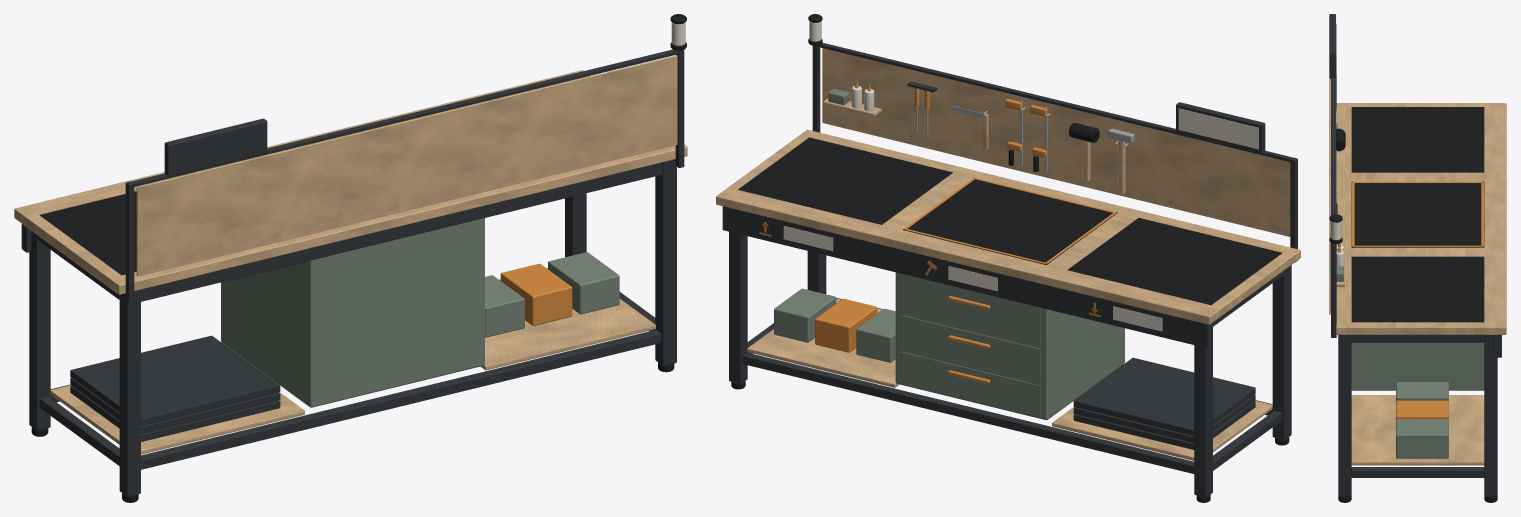
File: Montagebank01.fbx
3 renders of one model, left to right at view 1: azimuth 30°, elevation 25°; view 2: azimuth 150°, elevation 25°; view 3: azimuth 270°, elevation 25°, orthographic. The views are drawn at different scales.
Visible parts, largest first — view 1: Montagebank01__WoodBench, Montagebank01__SteelDark, Montagebank01__SteelGreen, Montagebank01__Black, Montagebank01__SafetyOrange; view 2: Montagebank01__WoodBench, Montagebank01__SteelDark, Montagebank01__Black, Montagebank01__SteelGreen, Montagebank01__SafetyOrange, Montagebank01__WallWhite, Montagebank01__BareSteel; view 3: Montagebank01__Black, Montagebank01__WoodBench, Montagebank01__SteelGreen, Montagebank01__SteelDark, Montagebank01__SafetyOrange, Montagebank01__WallWhite, Montagebank01__StatusLamp__WallWhite.
Part boxes in pixels (box(x1,y1,x2,y2)): Montagebank01__WoodBench: box(14, 55, 687, 454); Montagebank01__SteelDark: box(21, 49, 684, 496); Montagebank01__SteelGreen: box(221, 218, 619, 407); Montagebank01__Black: box(31, 14, 686, 502); Montagebank01__SafetyOrange: box(500, 263, 572, 325); Montagebank01__WoodBench: box(716, 48, 1300, 460); Montagebank01__SteelDark: box(722, 43, 1297, 497); Montagebank01__Black: box(731, 14, 1289, 502); Montagebank01__SteelGreen: box(774, 88, 1124, 420); Montagebank01__SafetyOrange: box(759, 80, 1116, 383); Montagebank01__WallWhite: box(783, 86, 1258, 331); Montagebank01__BareSteel: box(916, 100, 1134, 172); Montagebank01__Black: box(1329, 107, 1497, 502); Montagebank01__WoodBench: box(1329, 78, 1506, 465); Montagebank01__SteelGreen: box(1336, 266, 1484, 458); Montagebank01__SteelDark: box(1329, 14, 1501, 496); Montagebank01__SafetyOrange: box(1337, 181, 1502, 419); Montagebank01__WallWhite: box(1336, 18, 1344, 269); Montagebank01__StatusLamp__WallWhite: box(1330, 221, 1341, 239).
Size of the model in its own units: 240 by 143 by 80.
Materials: 7 (1 with a texture image).
